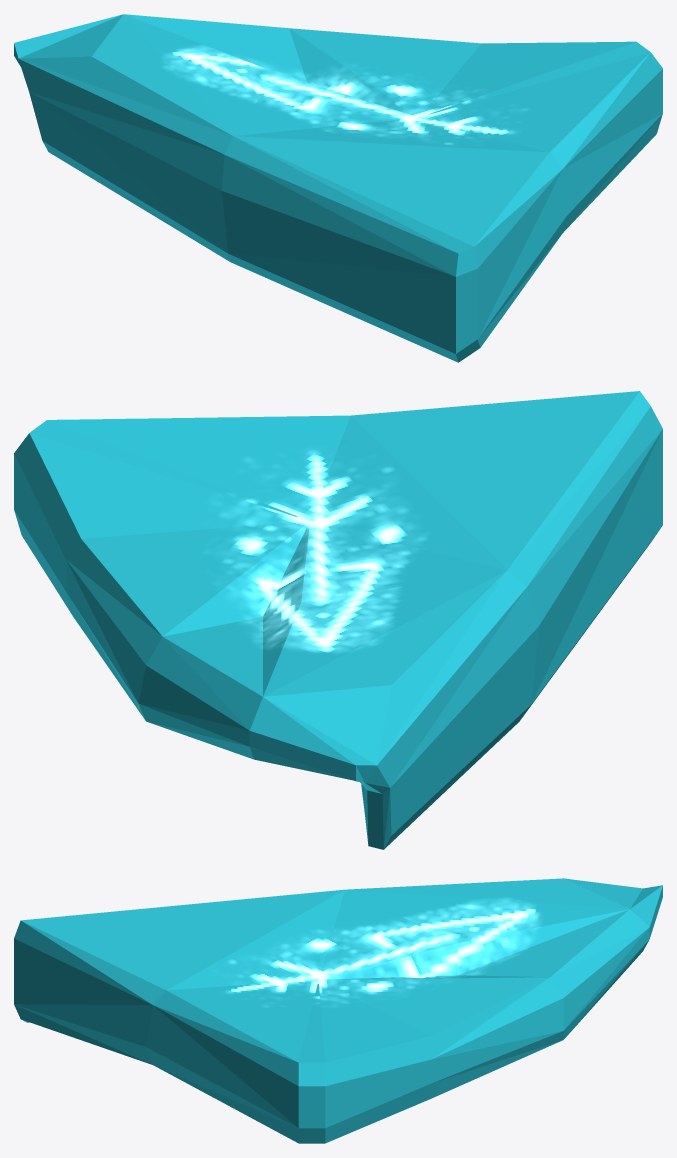
The model's file is shell_04.glb.
3 renders of one model, top to bottom at view 1: azimuth 30°, elevation 25°; view 2: azimuth 150°, elevation 25°; view 3: azimuth 270°, elevation 25°, orthographic. The views are drawn at different scales.
Parts seen in each view (by area): view 1: Mesh1.019; view 2: Mesh1.019; view 3: Mesh1.019.
Part boxes in pixels (bbox=[...]): Mesh1.019: bbox=[14, 14, 662, 362]; Mesh1.019: bbox=[14, 391, 662, 849]; Mesh1.019: bbox=[14, 878, 662, 1143].
Bounding box in the file's own units: 0.2935 × 0.0783 × 0.3836.
